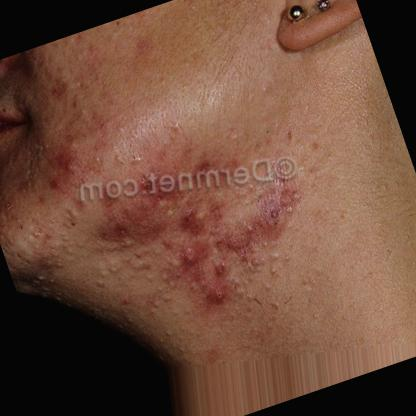Acne: (176, 190, 223, 247), (169, 234, 203, 274)
